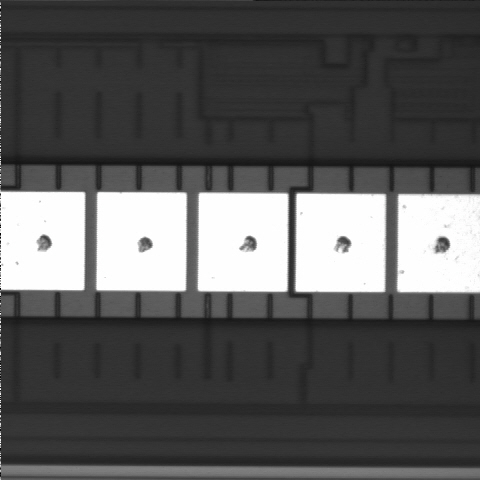pad: (97, 192, 187, 291), (198, 193, 288, 292), (296, 194, 386, 292)
